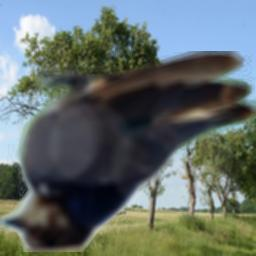Swallow: (0, 51, 256, 252)
